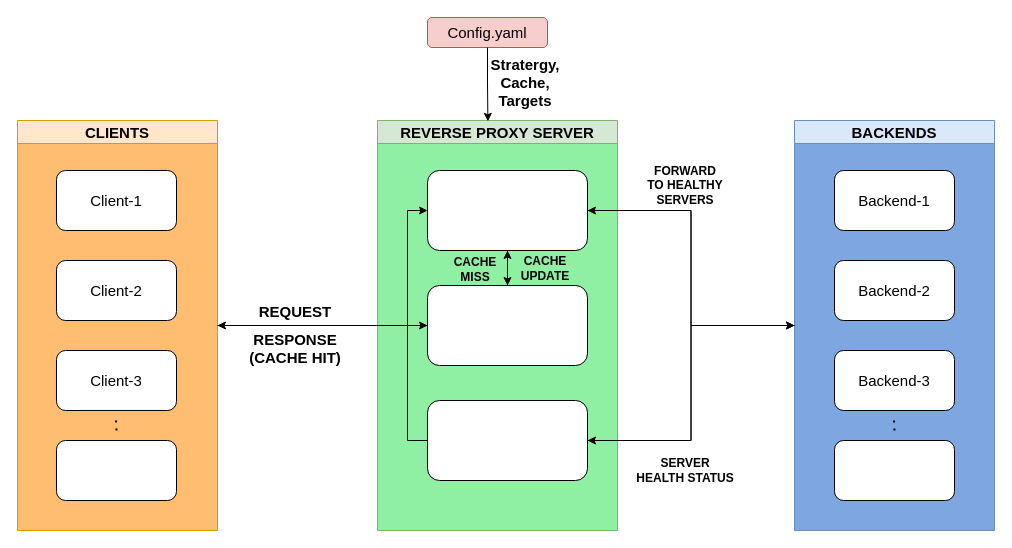
Some shapes in this 1012 by 548 pixel diagram are drawn without their labels. Each missing label, with the centre of its shape:
"Backend-n" goes at point (894, 470).
"Client-n" goes at point (116, 470).
"HEALTH CHECKS" goes at point (507, 440).
"LOAD-BALANCER (RR/LC)" goes at point (507, 210).
"LRU-Cache" goes at point (507, 325).
